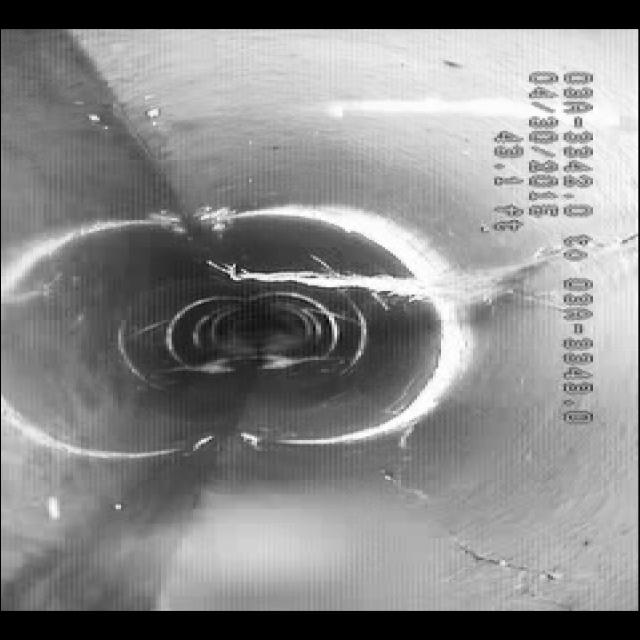Crack: (380, 482, 563, 590)
